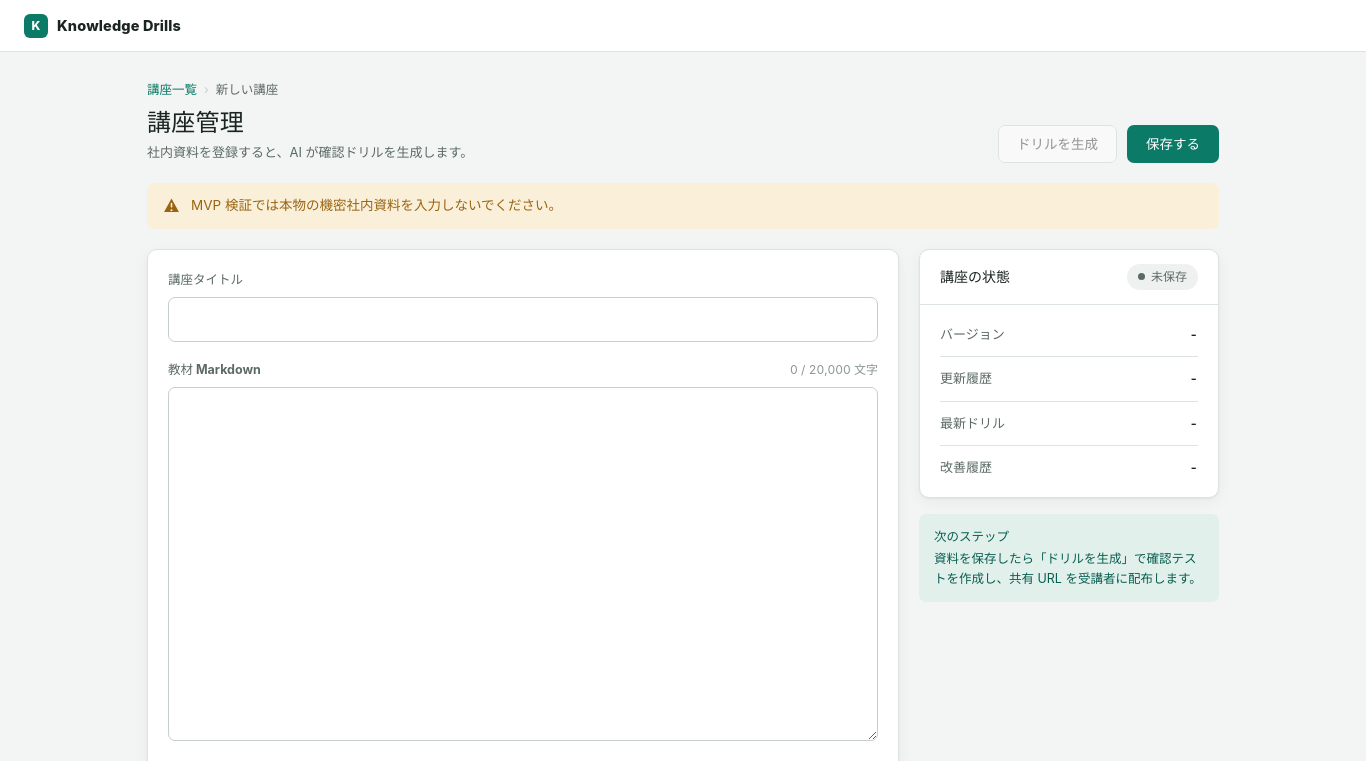
Test: CourseEditorPage › shows confidential material warning and validates empty title
Expected: the text "MVP 検証では本物の機密社内資料を入力しないでください。" is shown, x1=191 y1=195 x2=562 y2=217
Step 1. Click the button "保存する" → click(1173, 144), box x1=1127 y1=125 x2=1219 y2=163
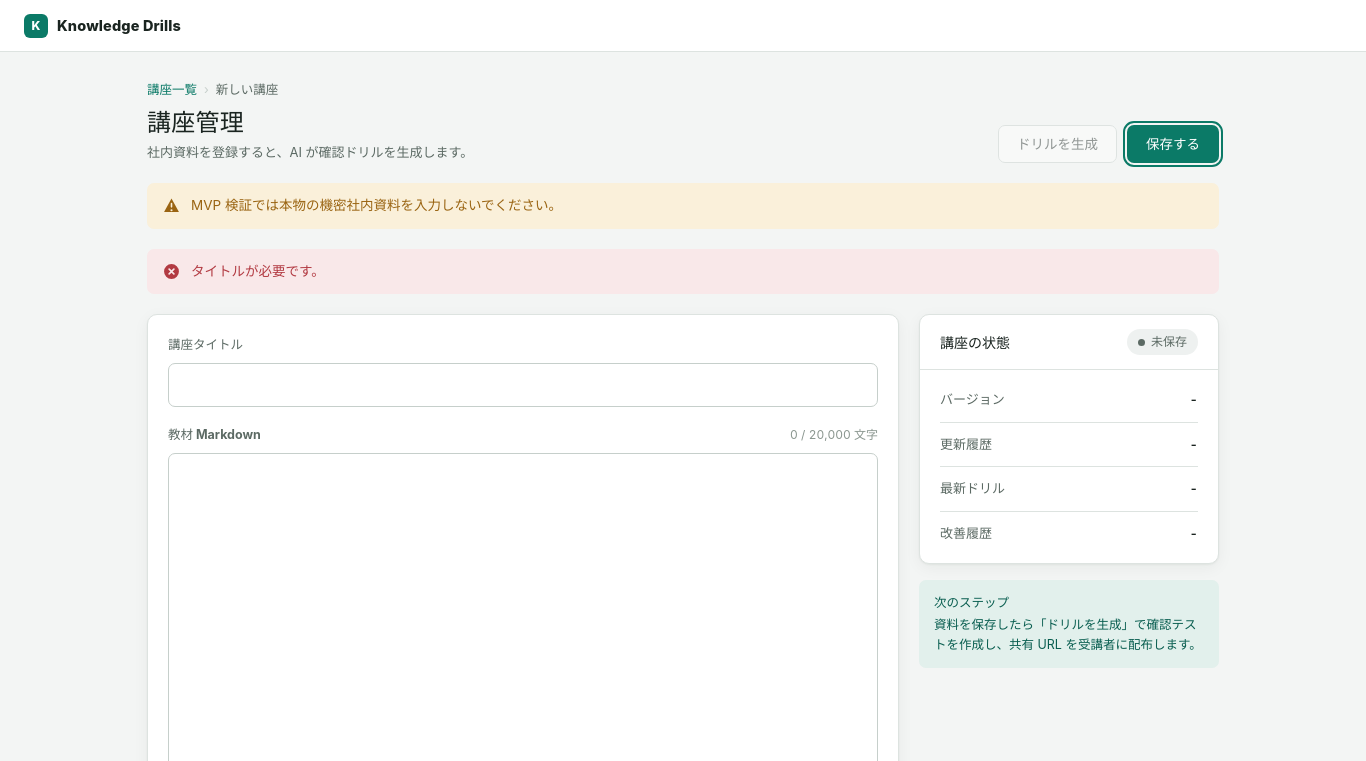
Expected: the text "タイトルが必要です。" is shown, x1=191 y1=261 x2=325 y2=282
